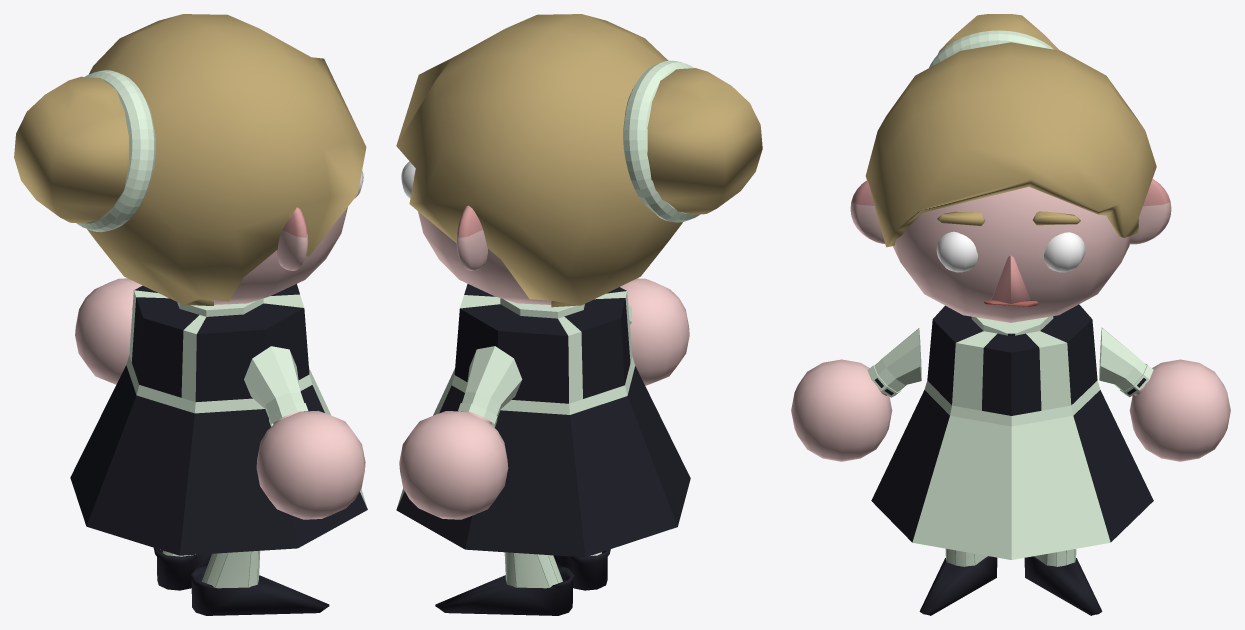
The model's file is Maid_v2.glb.
3 renders of one model, left to right at view 1: azimuth 30°, elevation 25°; view 2: azimuth 150°, elevation 25°; view 3: azimuth 270°, elevation 25°, orthographic. The views are drawn at different scales.
Parts seen in each view (by area): view 1: Hair.006, Maid_v2-col, right_arm-col.005, right_leg-col.005, left_arm-col.005, head-col.005, left_leg-col.005; view 2: Hair.006, Maid_v2-col, left_arm-col.005, left_leg-col.005, right_arm-col.005, head-col.005, right_leg-col.005; view 3: Maid_v2-col, Hair.006, head-col.005, left_arm-col.005, right_arm-col.005, right_leg-col.005, left_leg-col.005, Eyes.005.
Part boxes in pixels (<box>): Hair.006: <box>14,14,366,305</box>; Maid_v2-col: <box>70,284,367,555</box>; right_arm-col.005: <box>244,346,365,519</box>; right_leg-col.005: <box>189,550,329,615</box>; left_arm-col.005: <box>75,278,142,384</box>; head-col.005: <box>208,207,347,304</box>; left_leg-col.005: <box>153,548,211,590</box>; Hair.006: <box>396,14,762,307</box>; Maid_v2-col: <box>396,284,690,557</box>; left_arm-col.005: <box>399,346,522,519</box>; left_leg-col.005: <box>435,552,574,615</box>; right_arm-col.005: <box>620,278,689,385</box>; head-col.005: <box>414,168,551,304</box>; right_leg-col.005: <box>553,549,610,590</box>; Maid_v2-col: <box>871,304,1153,559</box>; Hair.006: <box>865,14,1156,247</box>; head-col.005: <box>850,179,1171,322</box>; left_arm-col.005: <box>1099,327,1230,461</box>; right_arm-col.005: <box>791,328,921,461</box>; right_leg-col.005: <box>919,548,997,615</box>; left_leg-col.005: <box>1024,549,1102,615</box>; Eyes.005: <box>936,231,1085,272</box>.
Bounding box in the file's own units: 1.18 × 1.96 × 1.47.
